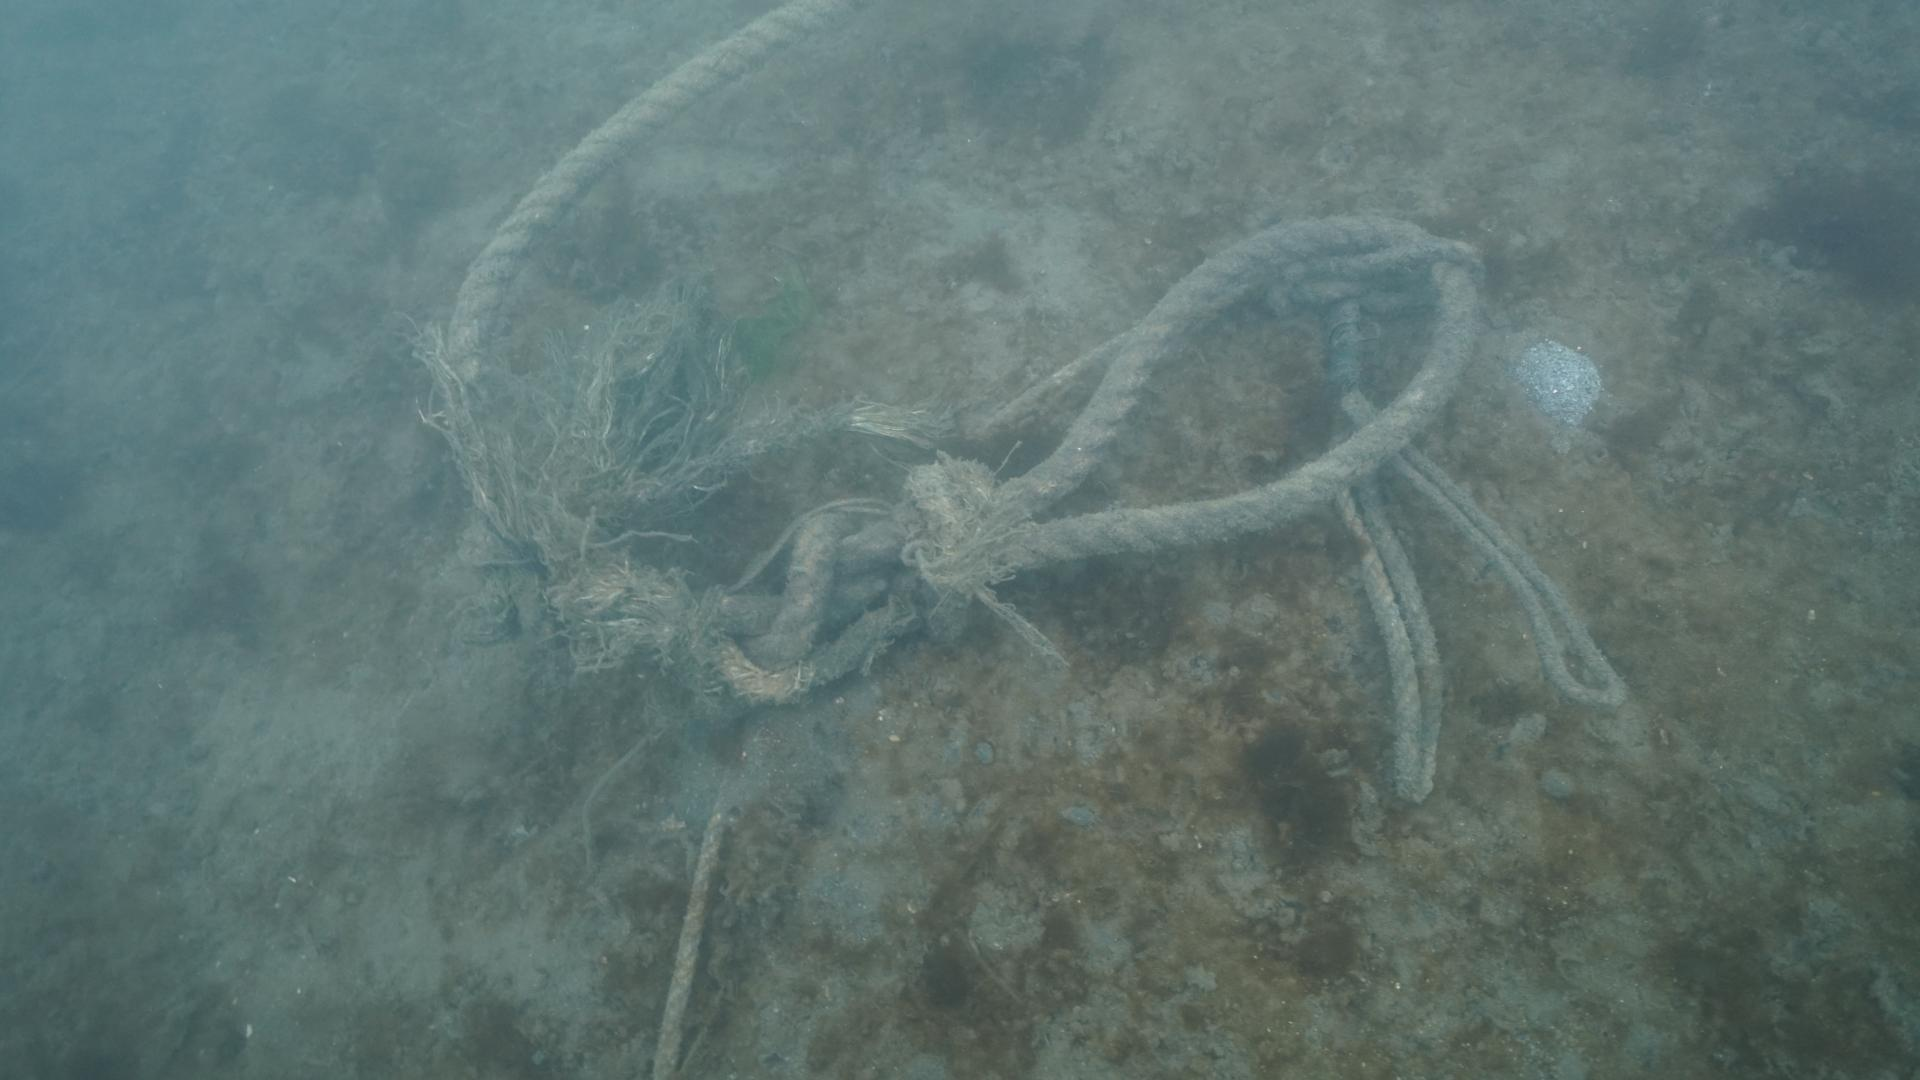bundle of ropes: (425, 0, 1636, 1080)
